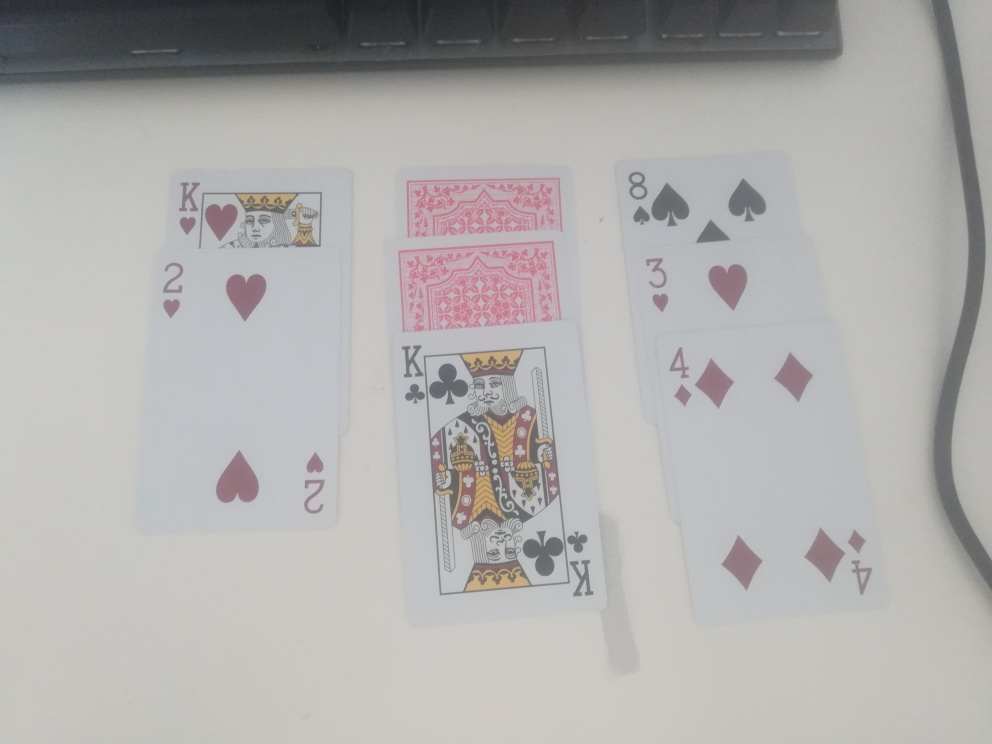2H: (160, 258, 190, 323)
3H: (639, 253, 680, 320)
4D: (667, 344, 702, 413)
8S: (621, 169, 657, 233)
BACK: (392, 245, 567, 333), (404, 179, 565, 236)
KC: (395, 342, 430, 412)
KH: (170, 177, 204, 240)
